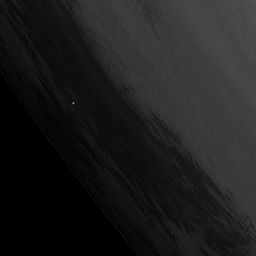Target: (70, 99, 75, 105)
